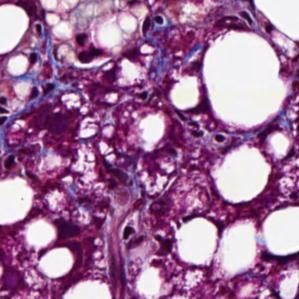inflammation: (23, 27, 107, 107), (169, 107, 230, 154)
